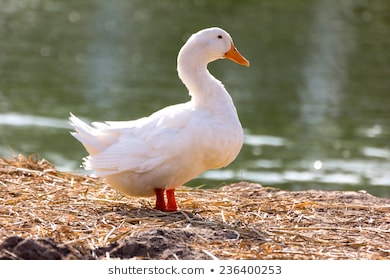duck: (45, 14, 283, 223)
